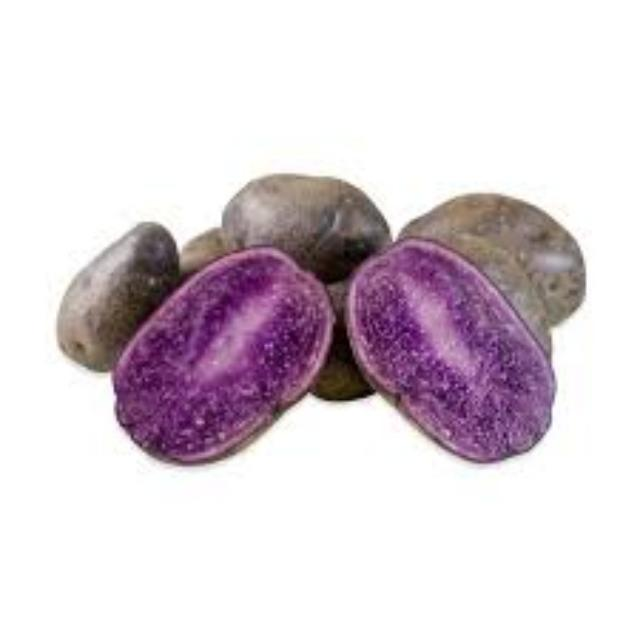Damaged potato: (408, 191, 586, 327), (50, 226, 184, 370), (228, 170, 384, 278)
Defected potato: (106, 240, 334, 472), (340, 235, 560, 472)
